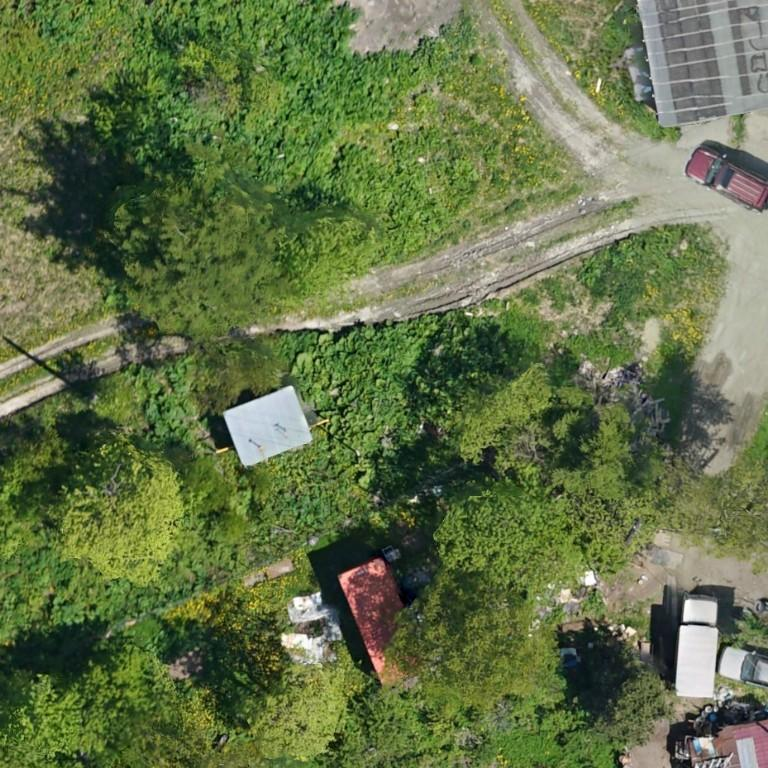hogweed: (133, 0, 472, 248), (273, 315, 440, 533), (128, 361, 195, 443), (33, 0, 89, 43)
